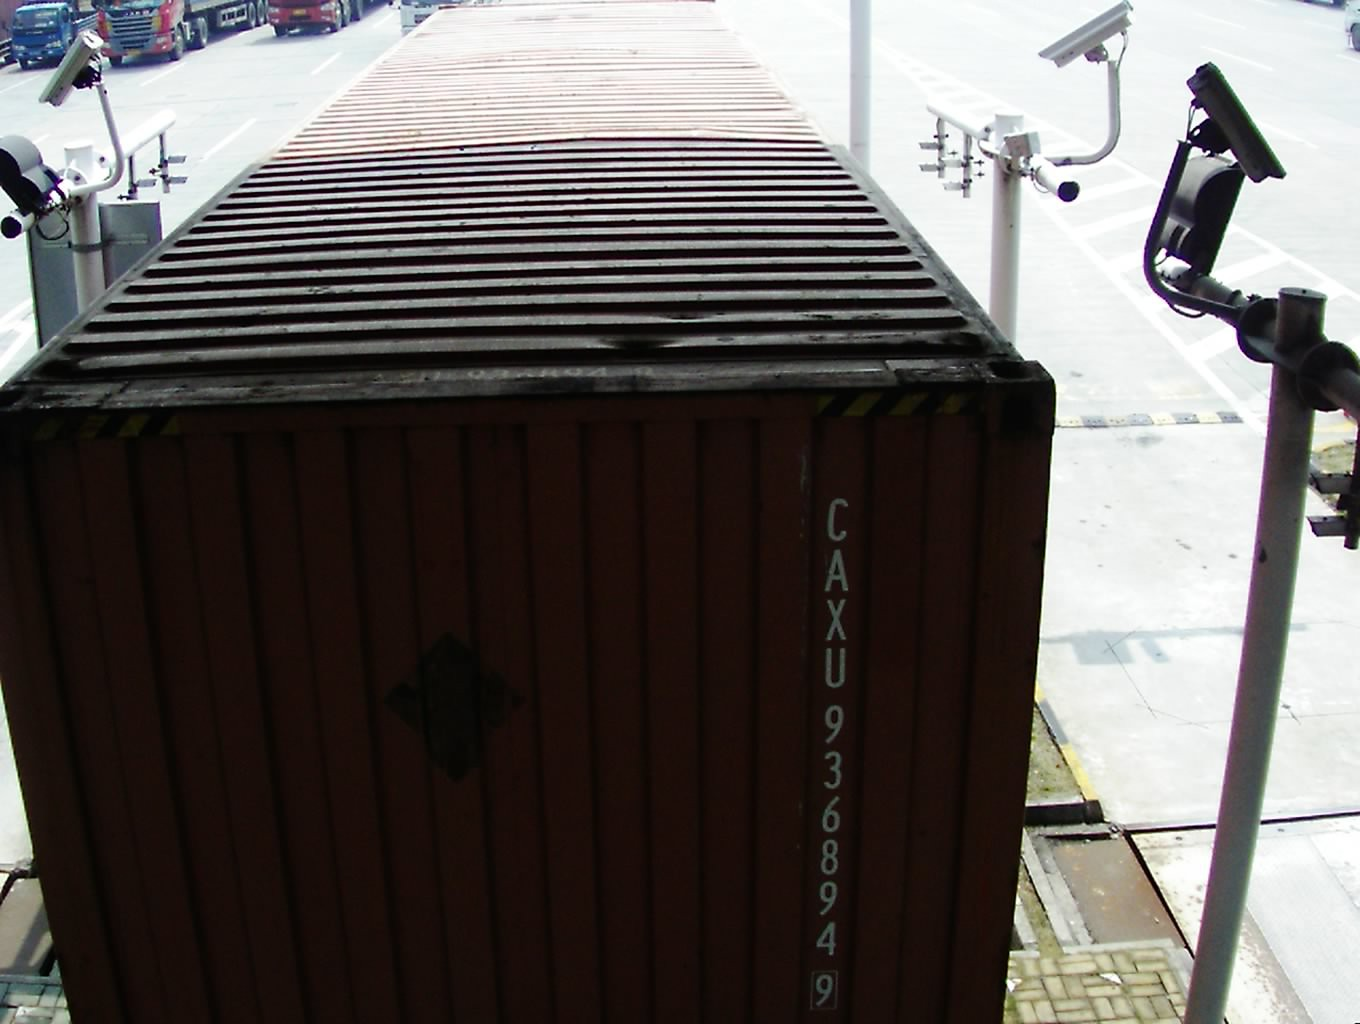words: (807, 484, 858, 1016)
